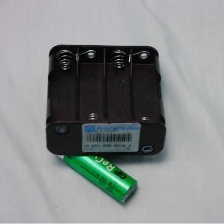battery: (45, 133, 139, 206)
plastic_box: (45, 41, 165, 159)
